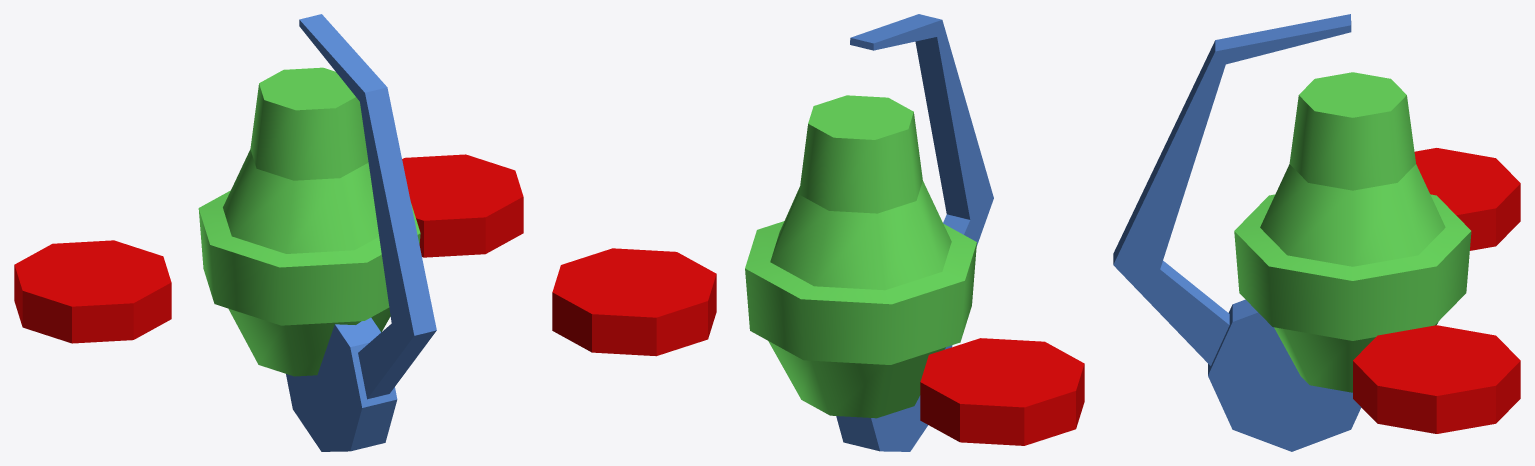
The model's file is unity_test.fbx.
3 renders of one model, left to right at view 1: azimuth 30°, elevation 25°; view 2: azimuth 150°, elevation 25°; view 3: azimuth 270°, elevation 25°, orthographic. The views are drawn at different scales.
Parts seen in each view (by area): view 1: gBody, gTool, gMotor1, gMotor2; view 2: gBody, gMotor1, gMotor2, gTool; view 3: gBody, gTool, gMotor2, gMotor1.
Boxes of the visible parts, <box> form: gBody: <box>198,67,420,376</box>; gTool: <box>286,14,436,451</box>; gMotor1: <box>14,240,171,343</box>; gMotor2: <box>402,154,523,257</box>; gBody: <box>745,95,976,418</box>; gMotor1: <box>920,338,1084,445</box>; gMotor2: <box>552,248,716,356</box>; gTool: <box>836,14,993,451</box>; gBody: <box>1234,72,1471,392</box>; gTool: <box>1113,14,1361,451</box>; gMotor2: <box>1353,325,1520,433</box>; gMotor1: <box>1414,148,1520,250</box>.
Size of the model in its own units: 70 by 55.66 by 48.54.
